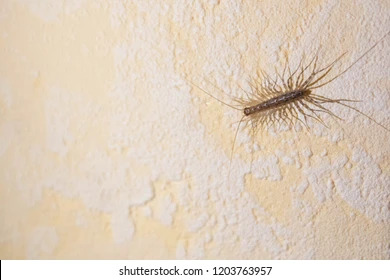centipede: (180, 50, 390, 152)
